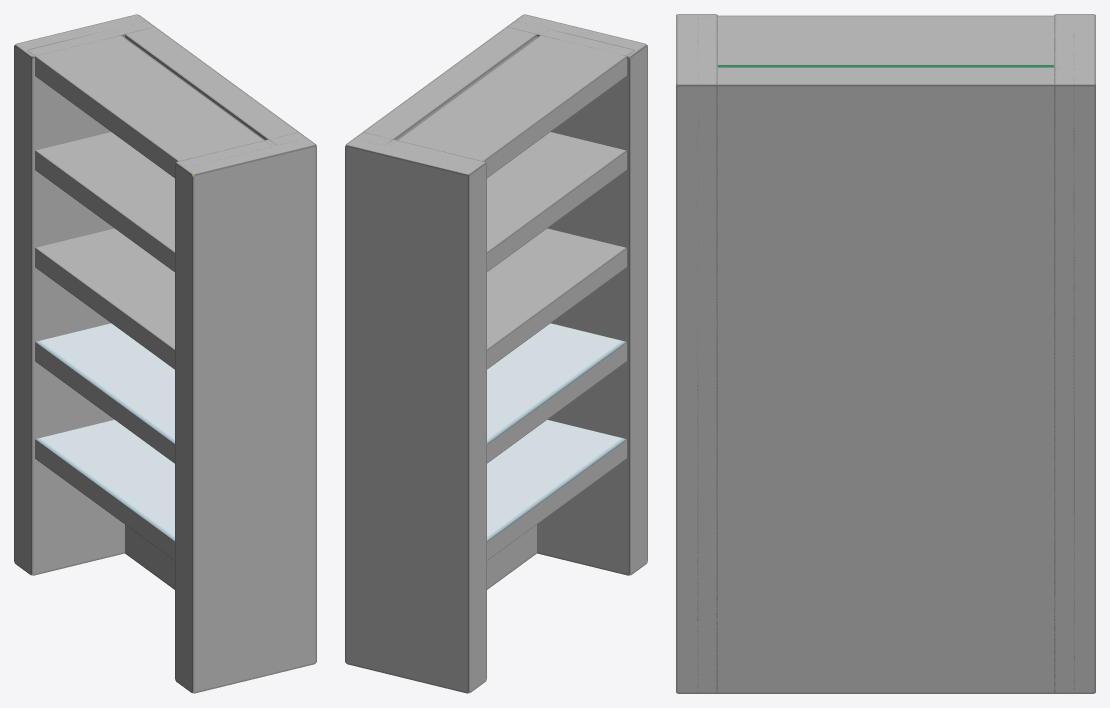
File: Shelf.fbx
The picture shows the model from 3 angles, left to right: view 1: azimuth 30°, elevation 25°; view 2: azimuth 150°, elevation 25°; view 3: azimuth 270°, elevation 25°; orthographic projection. The views are drawn at different scales.
Visible parts, largest first — view 1: cuboid_1, cuboid, cuboid_3, cuboid_5, cuboid_7, cuboid_6, cuboid_4, cuboid_2; view 2: cuboid, cuboid_1, cuboid_3, cuboid_5, cuboid_7, cuboid_6, cuboid_4, cuboid_2; view 3: cuboid_2, cuboid_1, cuboid, cuboid_3.
Part boxes in pixels (x1,y1,x2,y2): cuboid_1: [175, 132, 316, 693]; cuboid: [14, 14, 154, 575]; cuboid_3: [27, 30, 272, 177]; cuboid_5: [35, 228, 174, 369]; cuboid_7: [35, 419, 174, 560]; cuboid_6: [35, 323, 174, 463]; cuboid_4: [35, 132, 174, 271]; cuboid_2: [121, 21, 303, 589]; cuboid: [345, 132, 486, 693]; cuboid_1: [507, 14, 647, 575]; cuboid_3: [390, 29, 634, 177]; cuboid_5: [487, 228, 626, 369]; cuboid_7: [487, 419, 626, 560]; cuboid_6: [487, 323, 626, 463]; cuboid_4: [487, 132, 626, 271]; cuboid_2: [356, 21, 543, 589]; cuboid_2: [697, 67, 1074, 693]; cuboid_1: [676, 14, 717, 693]; cuboid: [1054, 14, 1095, 693]; cuboid_3: [697, 15, 1074, 67].
Size of the model in its own units: 25 by 100 by 62.5.
Materials: 1 (1 with a texture image).
